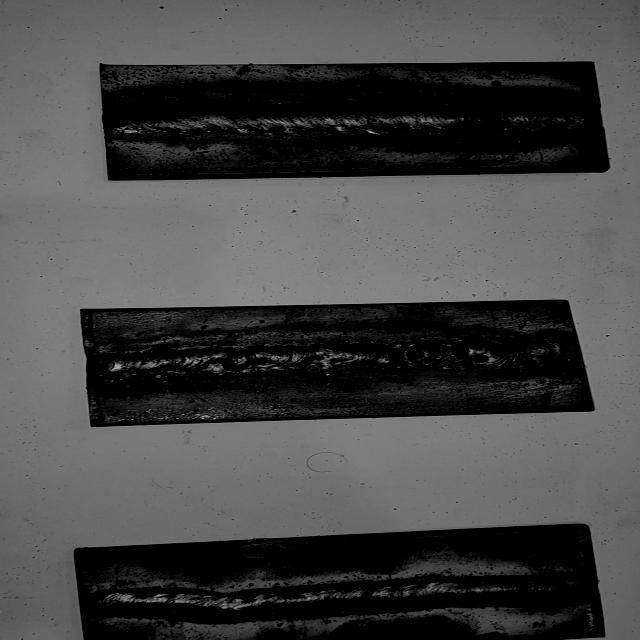Bad Weld: (88, 338, 575, 378)
Defect: (380, 332, 467, 382)
Good Weld: (85, 574, 596, 618), (109, 105, 598, 131)
